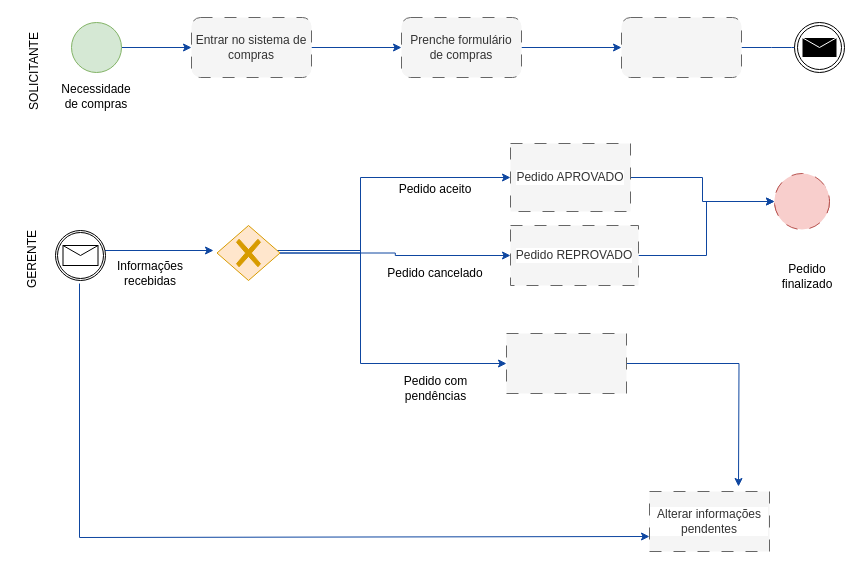
Some shapes in this 862 by 569 pixel diagram are drawn without their labels. The box of each missing label's shape, as (x1, y1, x2, y2) in pixels:
Enviar novamente ao solicitante: (506, 332, 626, 394)
Enviar solicitação de compras: (620, 16, 742, 78)
